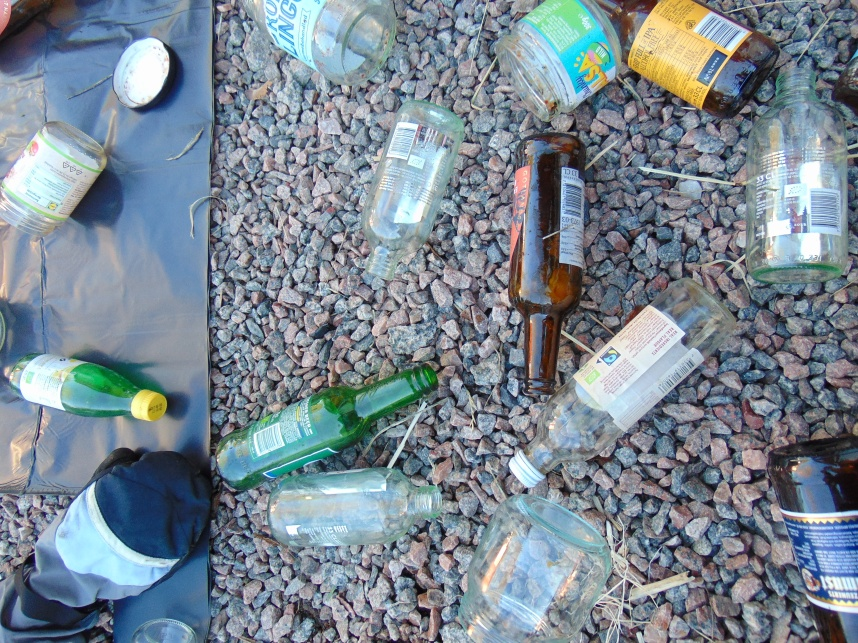glass_bottle: (508, 280, 727, 489), (215, 363, 435, 490), (745, 49, 848, 286), (458, 494, 613, 643), (509, 134, 589, 397), (603, 1, 778, 119), (359, 99, 464, 282), (768, 434, 858, 643), (496, 1, 622, 117), (268, 466, 440, 549), (240, 1, 395, 87), (2, 117, 106, 242), (6, 352, 167, 422), (1, 1, 54, 41), (129, 618, 202, 643)
metal: (113, 34, 180, 110)
